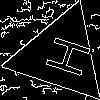H: (35, 30, 92, 80)
